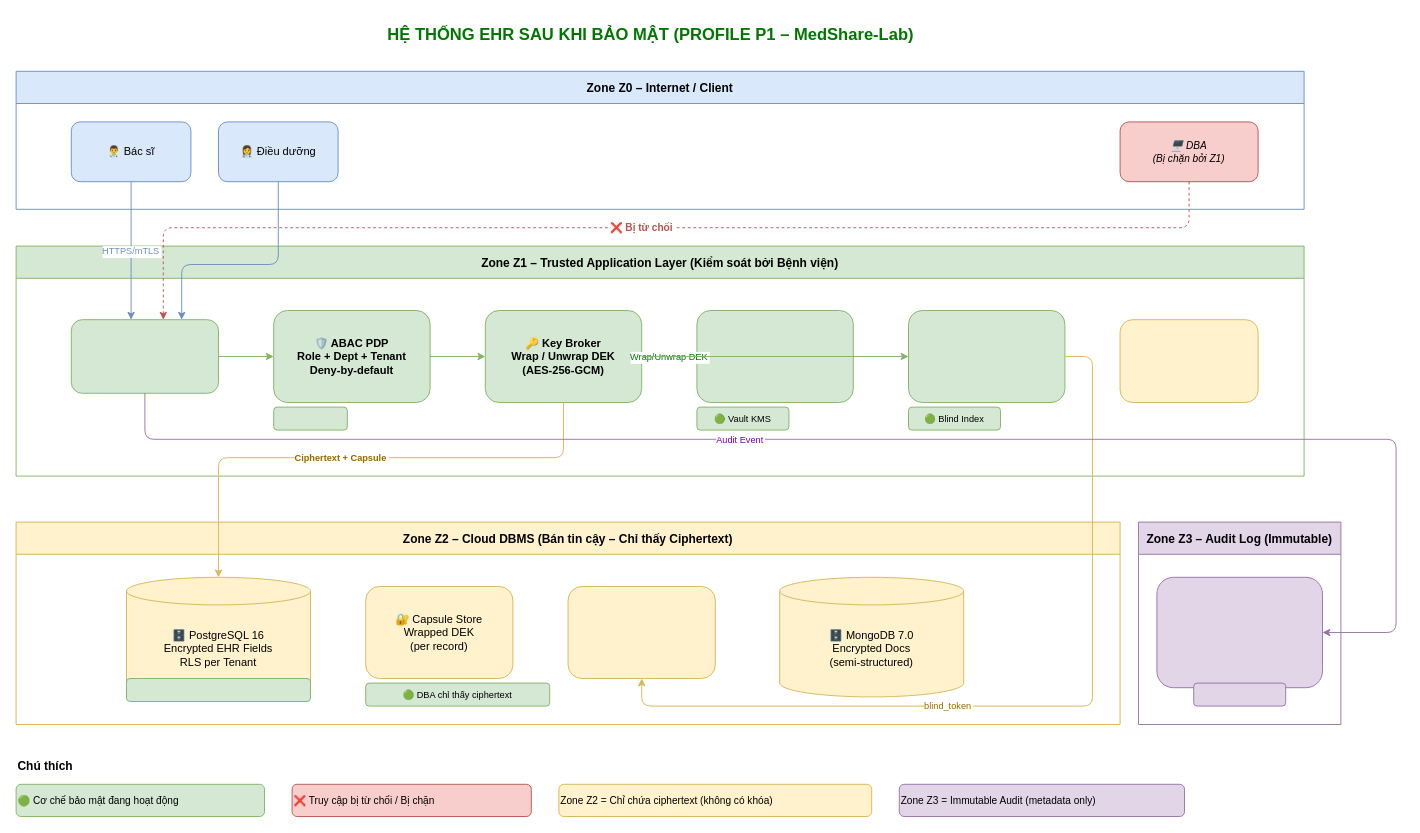
Some shapes in this 1420 by 833 pixel diagram are drawn without their labels. The box of each missing label's shape, as (x1, y1, x2, y2) in pixels:
🏦 HashiCorp Vault Transit KMS KEK Rotation: (696, 310, 853, 402)
📋 Audit Log Metadata Only actor + action + ts (Không có bản rõ): (1156, 576, 1322, 688)
🔍 Blind Index Engine HKDF + HMAC-SHA256 (Search Token): (908, 310, 1065, 402)
🔍 search_index blind_token (HMAC) Không có bản rõ: (567, 586, 715, 678)
🔒 API Gateway mTLS / JWT Auth: (70, 319, 218, 393)
🚨 Break-Glass Ticket + Expiry + Audit Trail: (1119, 319, 1258, 402)
🟢 ABAC: (273, 406, 347, 430)
🟢 AES-256-GCM + AAD: (126, 678, 310, 702)
🟢 Audit Trail: (1193, 682, 1286, 706)
